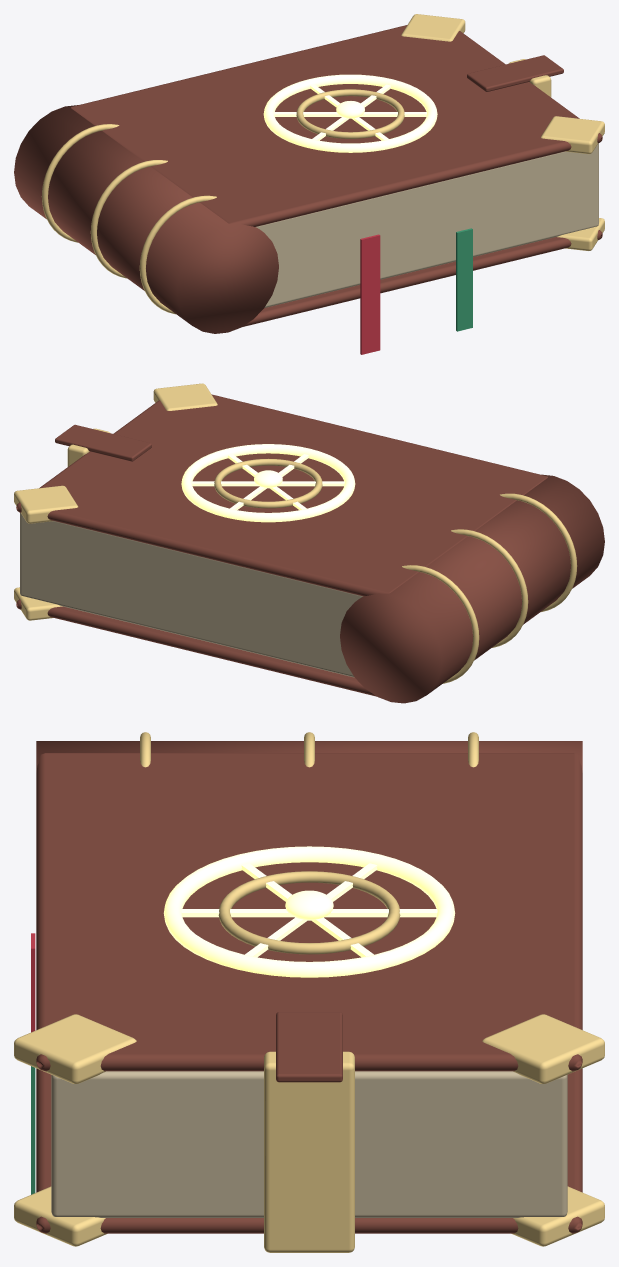
Rendered from grimoire_book.gltf.
The picture shows the model from 3 angles, top to bottom: view 1: azimuth 30°, elevation 25°; view 2: azimuth 150°, elevation 25°; view 3: azimuth 270°, elevation 25°; orthographic projection. The views are drawn at different scales.
Visible parts, largest first — view 1: FrontBoard, Spine, Pages, BackBoard, SigilRing, RibbonA, ClaspStrap, SigilInner, RibbonB, Corner1-10.062, Corner110.062, SpineBand0.00 (+3 smaller); view 2: FrontBoard, Spine, Pages, BackBoard, SigilRing, ClaspStrap, SigilInner, Corner110.062, Corner1-10.062, SpineBand0.05, SpineBand0.00, SpineBand-0.05 (+1 smaller); view 3: FrontBoard, Pages, ClaspPlate, SigilRing, BackBoard, Spine, Corner1-10.062, Corner110.062, ClaspStrap, SigilInner, Corner1-10.003, Corner110.003 (+3 smaller).
Boxes of the visible parts, box(x1,y1,x2,y2) form: FrontBoard: box(71, 25, 602, 226); Spine: box(14, 105, 278, 333); Pages: box(256, 143, 598, 307); BackBoard: box(242, 230, 602, 326); SigilRing: box(263, 74, 437, 152); RibbonA: box(360, 234, 380, 354); ClaspStrap: box(467, 55, 563, 91); SigilInner: box(296, 89, 404, 138); RibbonB: box(456, 228, 472, 331); Corner1-10.062: box(540, 116, 604, 154); Corner110.062: box(401, 14, 465, 41); SpineBand0.00: box(90, 160, 167, 278); FrontBoard: box(16, 394, 547, 596); Spine: box(340, 474, 604, 703); Pages: box(20, 513, 362, 677); BackBoard: box(16, 599, 376, 696); SigilRing: box(181, 444, 355, 522); ClaspStrap: box(55, 424, 151, 461); SigilInner: box(214, 458, 322, 508); Corner110.062: box(14, 485, 78, 523); Corner1-10.062: box(153, 383, 217, 410); SpineBand0.05: box(402, 565, 479, 683); SpineBand0.00: box(451, 529, 528, 647); SpineBand-0.05: box(500, 493, 577, 612); FrontBoard: box(36, 753, 582, 1071); Pages: box(51, 1071, 567, 1217); ClaspPlate: box(264, 1051, 354, 1252); SigilRing: box(163, 846, 455, 977); BackBoard: box(36, 1068, 582, 1233); Spine: box(36, 741, 582, 772); Corner1-10.062: box(14, 1014, 136, 1084); Corner110.062: box(482, 1014, 604, 1084); ClaspStrap: box(276, 1012, 342, 1082); SigilInner: box(218, 871, 400, 954); Corner1-10.003: box(14, 1186, 107, 1246); Corner110.003: box(511, 1186, 604, 1246).
Size of the model in its own units: 0.2953 by 0.1055 by 0.1946.
